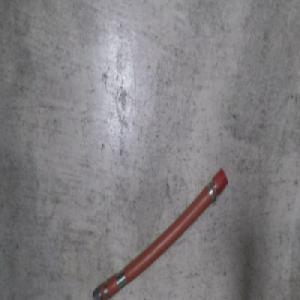Hose: (91, 163, 229, 300)
